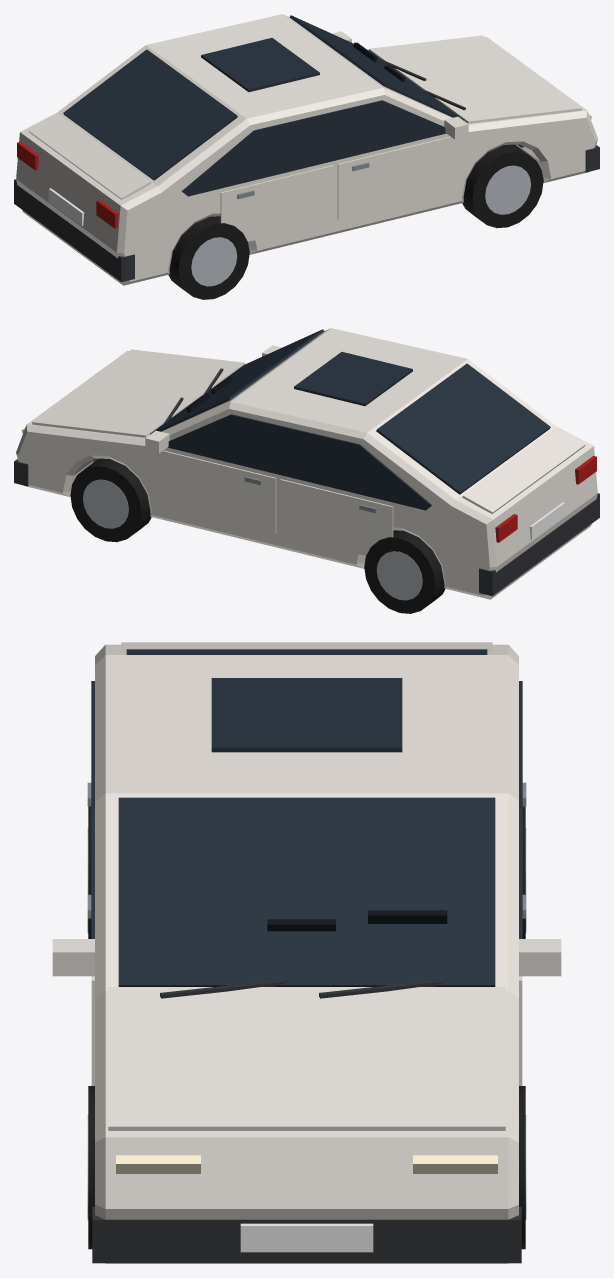
Rendered from car.glb.
3 renders of one model, top to bottom at view 1: azimuth 30°, elevation 25°; view 2: azimuth 150°, elevation 25°; view 3: azimuth 270°, elevation 25°, orthographic. The views are drawn at different scales.
Parts seen in each view (by area): view 1: body_shell, rear_glass, side_glass_l, bonnet, door_fr, door_rr, boot_lid, sunroof, tyre_fl, tyre_rl, bumper_rear, windscreen (+6 smaller); view 2: body_shell, rear_glass, side_glass_r, bonnet, door_fl, door_rl, boot_lid, sunroof, tyre_fr, tyre_rr, bumper_rear, windscreen (+6 smaller); view 3: body_shell, windscreen, bonnet, bumper_front, sunroof, number_plate_front, boot_lid, rear_glass, mirror_l, mirror_r, headlight_l, headlight_r (+6 smaller).
Part boxes in pixels (x1,y1,x2,y2): body_shell: [16, 14, 597, 285]; rear_glass: [63, 49, 237, 180]; side_glass_l: [181, 100, 445, 196]; bonnet: [368, 35, 581, 123]; door_fr: [337, 136, 450, 219]; door_rr: [220, 165, 333, 241]; boot_lid: [28, 114, 151, 199]; sunroof: [201, 38, 319, 92]; tyre_fl: [462, 144, 543, 228]; tyre_rl: [168, 216, 249, 299]; bumper_rear: [14, 179, 134, 282]; windscreen: [289, 15, 463, 120]; body_shell: [16, 328, 597, 599]; rear_glass: [376, 363, 550, 494]; side_glass_r: [168, 414, 432, 510]; bonnet: [32, 349, 245, 437]; door_fl: [163, 450, 276, 533]; door_rl: [280, 479, 393, 555]; boot_lid: [462, 428, 585, 513]; sunroof: [294, 352, 412, 406]; tyre_fr: [70, 458, 151, 542]; tyre_rr: [364, 530, 445, 613]; bumper_rear: [479, 493, 599, 596]; windscreen: [150, 329, 324, 434]; body_shell: [95, 644, 518, 1263]; windscreen: [118, 797, 495, 986]; bonnet: [108, 987, 505, 1130]; bumper_front: [92, 1206, 521, 1263]; sunroof: [211, 678, 402, 752]; number_plate_front: [240, 1223, 373, 1252]; boot_lid: [121, 642, 492, 654]; rear_glass: [126, 649, 487, 654]; mirror_l: [52, 939, 94, 976]; mirror_r: [519, 939, 561, 976]; headlight_l: [116, 1155, 200, 1173]; headlight_r: [413, 1155, 497, 1173].
Bounding box in the file's own units: 4.21 × 1.42 × 1.92.
